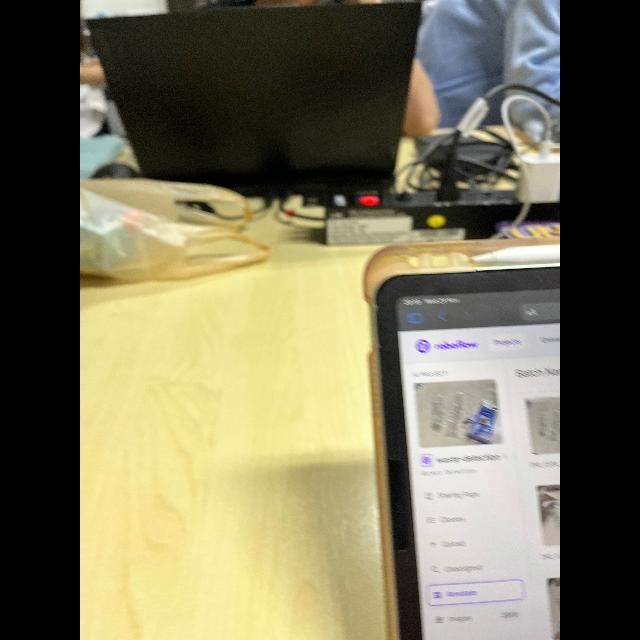plastic_bag: (80, 182, 260, 292)
